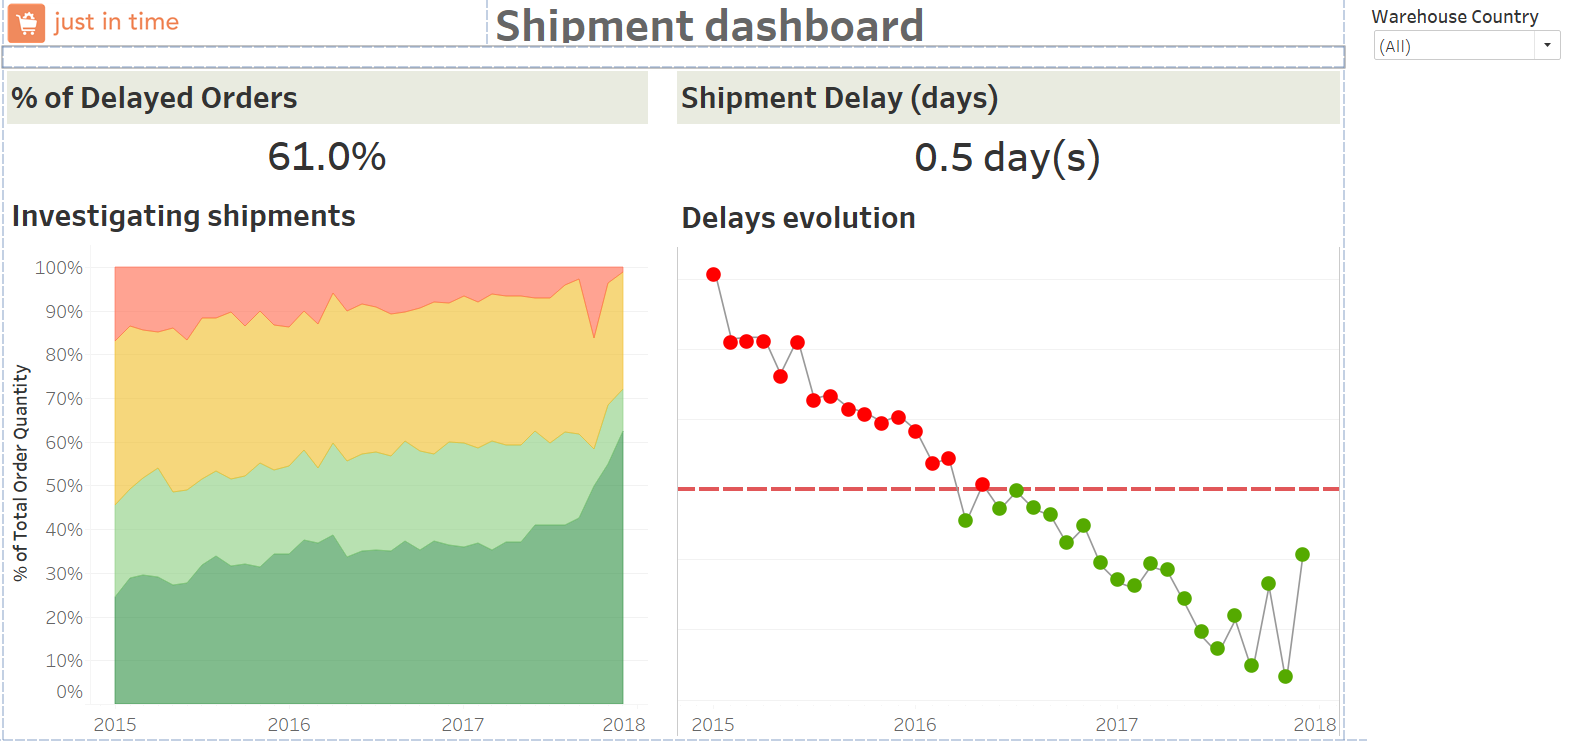

The dashboard page shown, as its layout file describes it:
{"tool":"tableau","page":{"name":"Shipment dashboard","canvas":[1000,1000],"units":"permille","ordinal":1},"visuals":[{"type":"blank","box":[4.1,6.4,14.7,961.7]},{"type":"image","param":"Image/JIT_LOGO.PNG","box":[18.8,6.4,310.2,62.2]},{"type":"text","box":[329,6.4,548.4,62.2]},{"type":"blank","box":[877.4,6.4,14.9,961.7]},{"type":"filter","title":"Investigating shipments","param":"[federated.19ygq9l0xg1jf01fjcc2w0el0qod].[none:Warehouse Country:nk]","box":[892.3,6.4,103.6,53.3]},{"type":"blank","box":[18.8,68.5,858.6,25.5]},{"type":"worksheet","title":"% of Delayed Orders","mark":"Automatic","box":[18.8,94.1,415.4,154.2]},{"type":"blank","box":[434.2,94.1,13.8,874]},{"type":"worksheet","title":"Shipment Delay (days)","mark":"Automatic","box":[448,94.1,429.4,155.7]},{"type":"worksheet","title":"Investigating shipments","mark":"Area","cols":["Calculation_1157143648585805825"],"box":[18.8,248.2,415.4,719.8]},{"type":"worksheet","title":"Delays evolution","mark":"Automatic","rows":["Calculation_1646065683151257604","Calculation_1646065683151257604"],"cols":["Calculation_1157143648585805825"],"box":[448,249.8,429.4,718.3]},{"type":"blank","box":[4.1,968.1,888.1,25.6]}]}

Visuals, with their boxes on the dashboard's canvas, which has no fixed pixel size, in thousandths of its width and height (x1, y1, x2, y2). These are canvas units, not pixel positions in the 1576x748 screenshot, which may show the page scaled, cropped or inside an application window:
blank: 4/6/19/968
image: 19/6/329/69
text: 329/6/877/69
blank: 877/6/892/968
"Investigating shipments" filter: 892/6/996/60
blank: 19/68/877/94
"% of Delayed Orders" worksheet: 19/94/434/248
blank: 434/94/448/968
"Shipment Delay (days)" worksheet: 448/94/877/250
"Investigating shipments" worksheet (Area marks): 19/248/434/968
"Delays evolution" worksheet: 448/250/877/968
blank: 4/968/892/994
